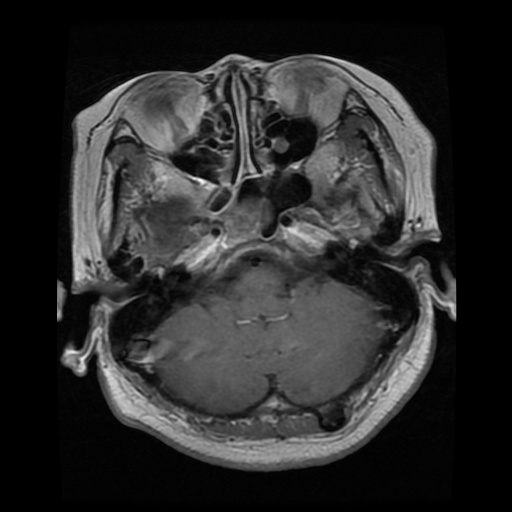pituitary: (222, 198, 274, 241)
